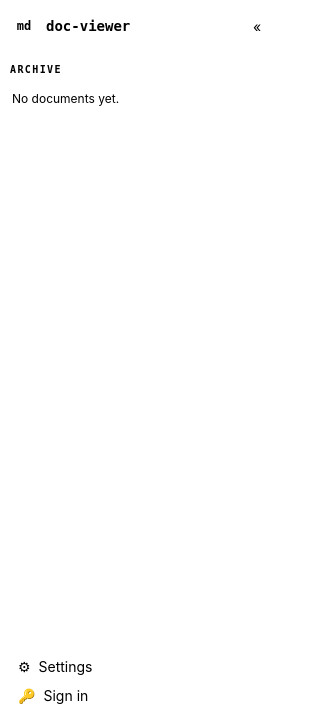
Sidebar › collapses and expands
The image size is (320, 720).
Expected: the text "doc-viewer" is shown, top-left (46, 18), bottom-right (130, 34)
Click the button named "collapse sidebar" at (257, 26), box top-left (244, 13), bottom-right (270, 39)
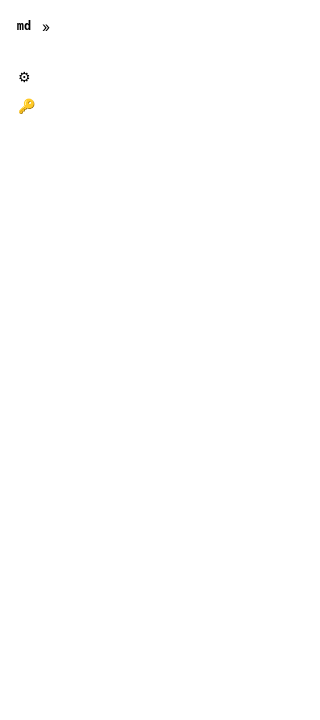
Now the text "doc-viewer" is gone
Click the button named "expand sidebar" at (46, 26), box top-left (42, 13), bottom-right (50, 39)
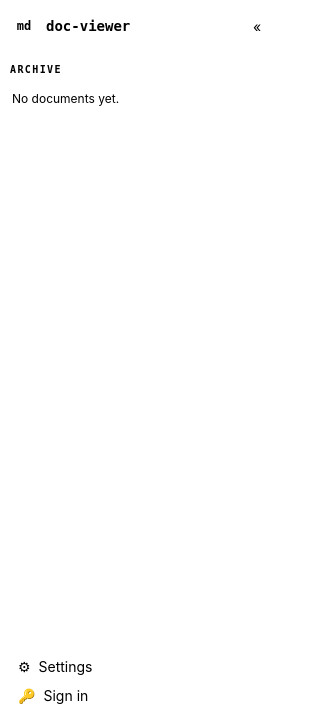
Now the text "doc-viewer" is shown, box top-left (46, 18), bottom-right (130, 34)
